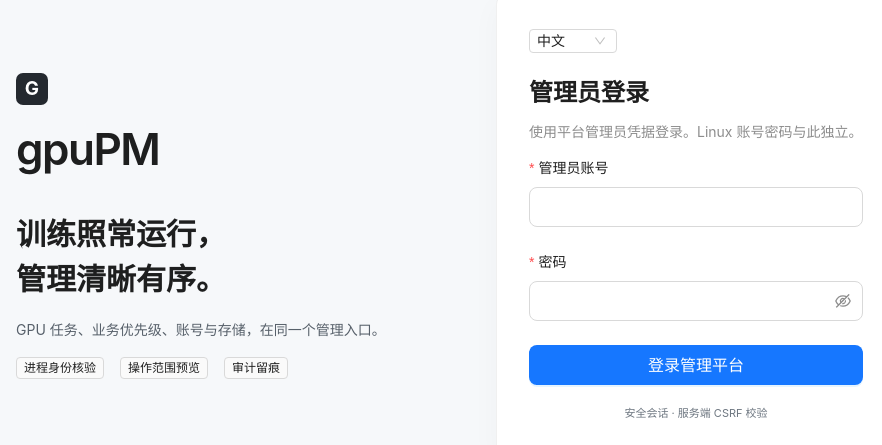
Test: login language switch translates fields without discarding credentials
Type "admin-name" into the field labelled "管理员账号" at (696, 207), box 529,187 -> 863,227
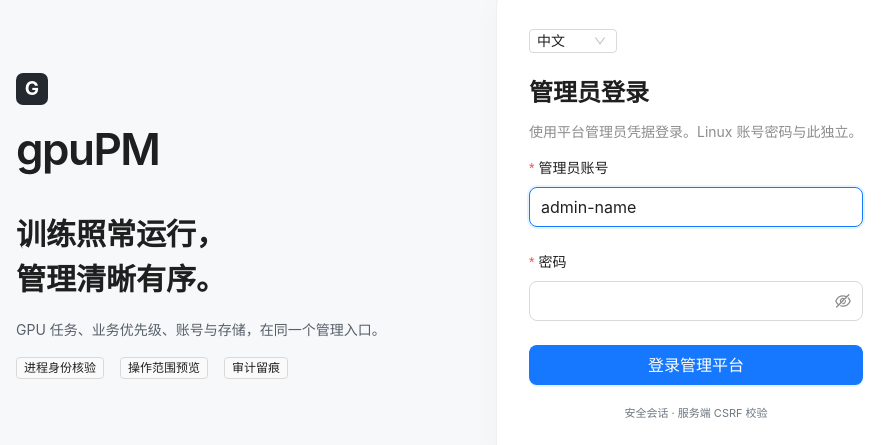
Click the dropdown named "语言 / Language" at (551, 41), box 537,30 -> 609,52
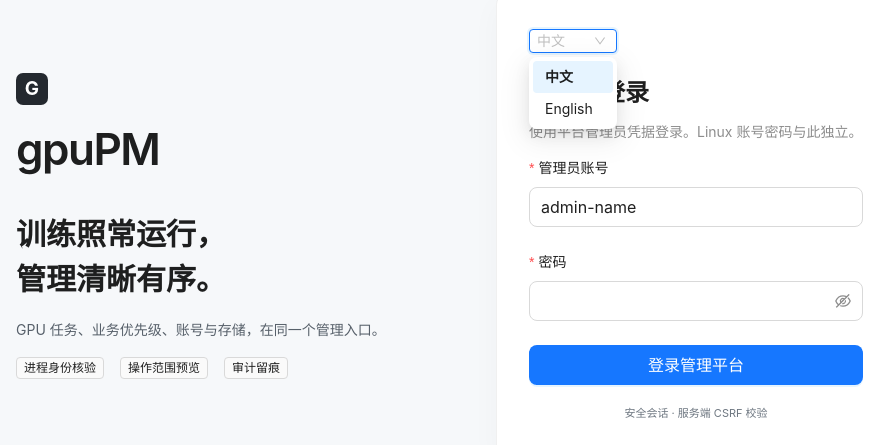
Click the text "English" at (573, 109), box 545,98 -> 601,120
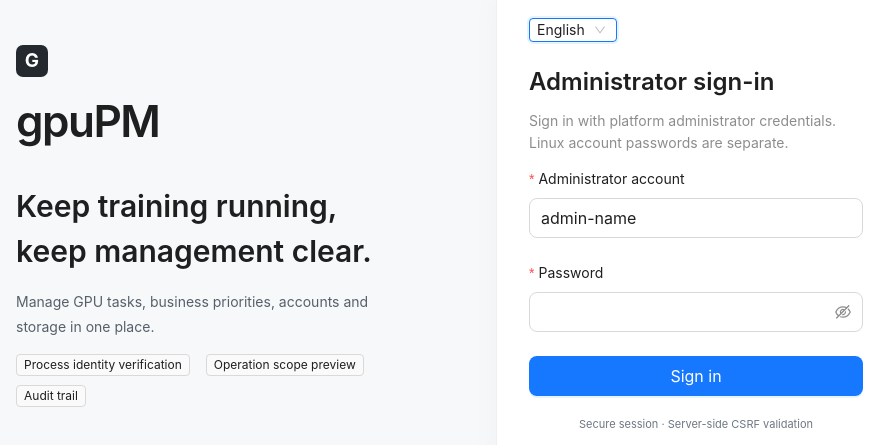
Expected: the heading "Administrator sign-in" is shown, 529,67 -> 774,96
Expected: the button "Sign in" is shown, 529,356 -> 863,396
